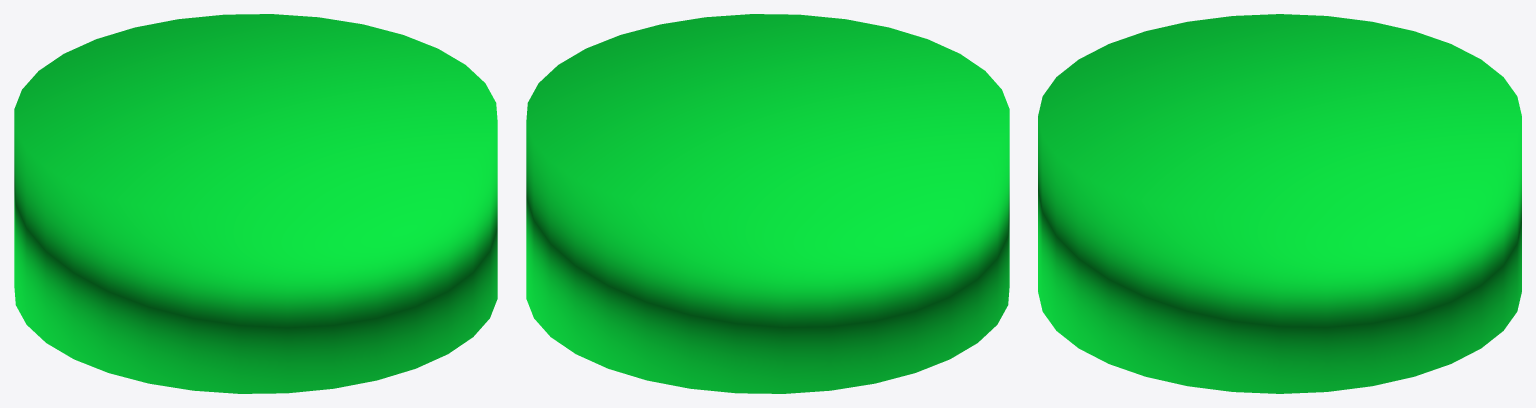
Rendered from landing_cylinder_z20cm.glb.
The picture shows the model from 3 angles, left to right: view 1: azimuth 30°, elevation 25°; view 2: azimuth 150°, elevation 25°; view 3: azimuth 270°, elevation 25°; orthographic projection.
Parts seen in each view (by area): view 1: 柱体; view 2: 柱体; view 3: 柱体.
Part boxes in pixels (x1=…): 柱体: x1=14, y1=14, x2=497, y2=393; 柱体: x1=526, y1=14, x2=1009, y2=393; 柱体: x1=1038, y1=14, x2=1521, y2=393.
Bounding box in the file's own units: 1 × 0.4 × 1.
